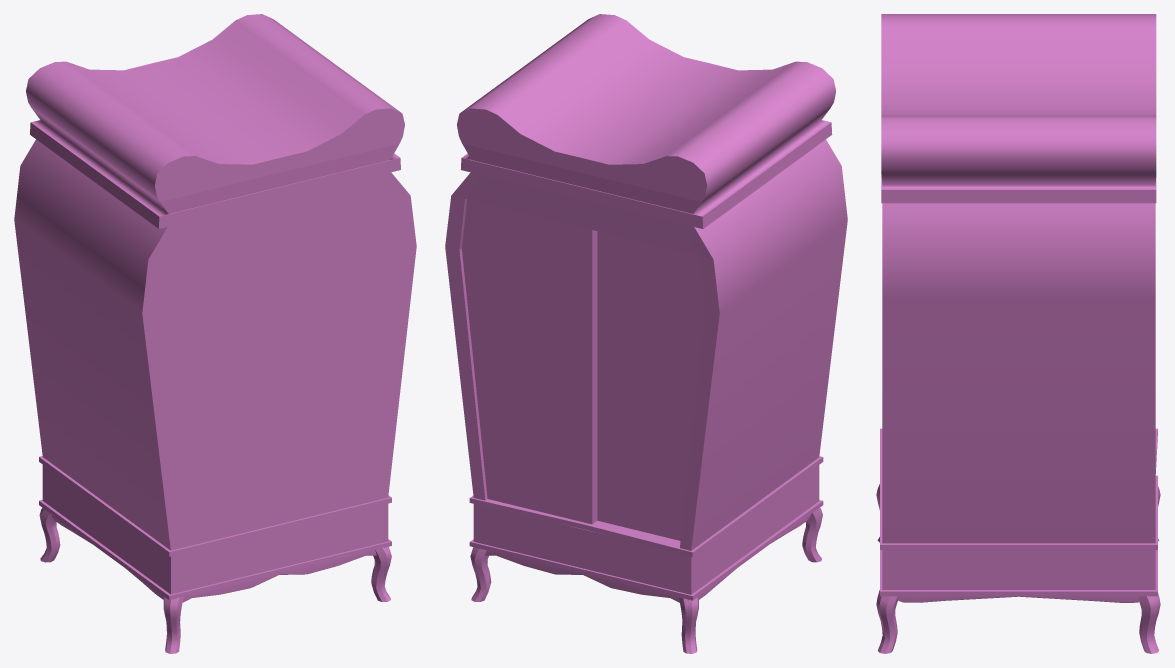
Rendered from BgMD_closet_curve (2).fbx.
3 renders of one model, left to right at view 1: azimuth 30°, elevation 25°; view 2: azimuth 150°, elevation 25°; view 3: azimuth 270°, elevation 25°, orthographic. The views are drawn at different scales.
Parts seen in each view (by area): view 1: polySurface11, polySurface16, polySurface19, polySurface15, polySurface18; view 2: polySurface11, polySurface21, polySurface20, polySurface13, polySurface18, polySurface14, polySurface19; view 3: polySurface11, polySurface12, polySurface15, polySurface14.
Part boxes in pixels (x1,y1,x2,y2): polySurface11: [14, 14, 416, 600]; polySurface16: [182, 550, 376, 602]; polySurface19: [163, 596, 183, 653]; polySurface15: [371, 547, 391, 602]; polySurface18: [39, 508, 60, 562]; polySurface11: [445, 14, 847, 600]; polySurface21: [461, 199, 597, 524]; polySurface20: [597, 231, 705, 540]; polySurface13: [485, 550, 679, 602]; polySurface18: [679, 596, 698, 653]; polySurface14: [470, 547, 491, 601]; polySurface19: [802, 508, 822, 562]; polySurface11: [880, 14, 1157, 596]; polySurface12: [897, 596, 1140, 602]; polySurface15: [876, 590, 897, 653]; polySurface14: [1139, 593, 1160, 653].
Size of the model in its own units: 110 by 189 by 92.55.
1 material, 1 textured.
